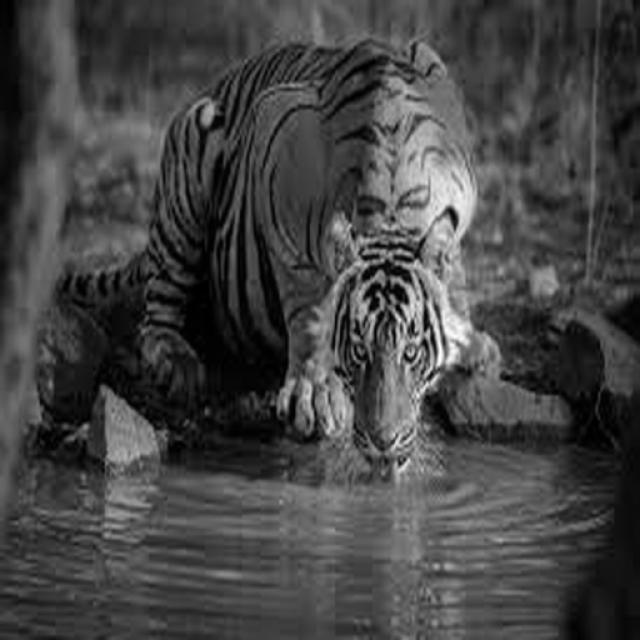Tiger: (31, 30, 505, 481)
